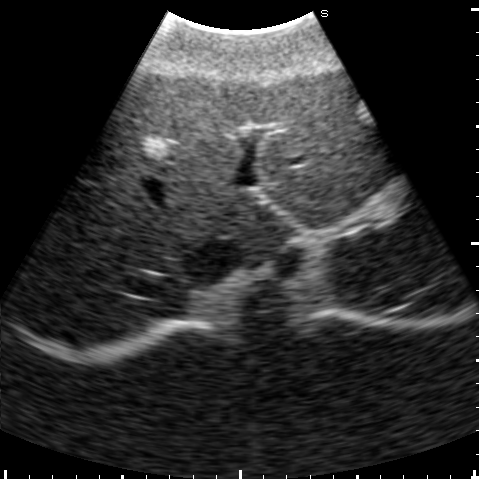IVC: (180, 237, 245, 286)
S1: (221, 194, 297, 263)
S2: (263, 154, 404, 226)
S3: (250, 67, 394, 205)
Tumor: (357, 100, 375, 125)
